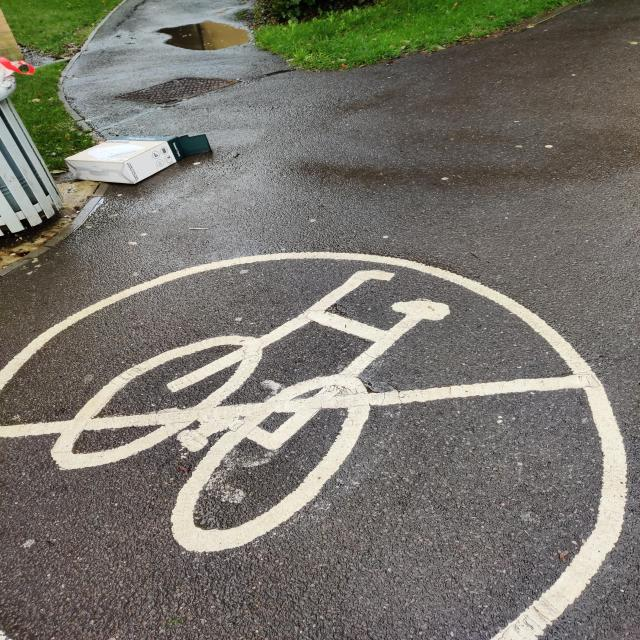litter: (65, 133, 211, 184)
